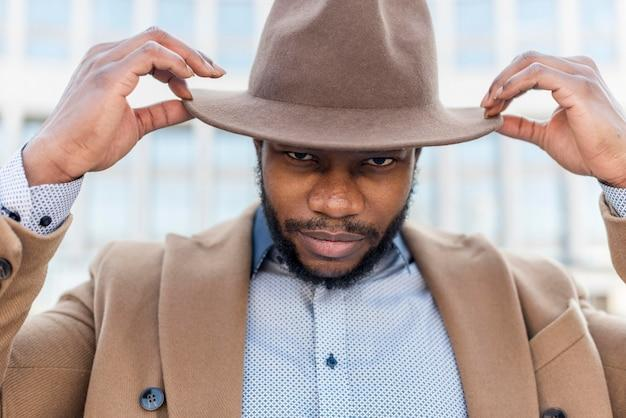cap: (180, 0, 537, 172)
